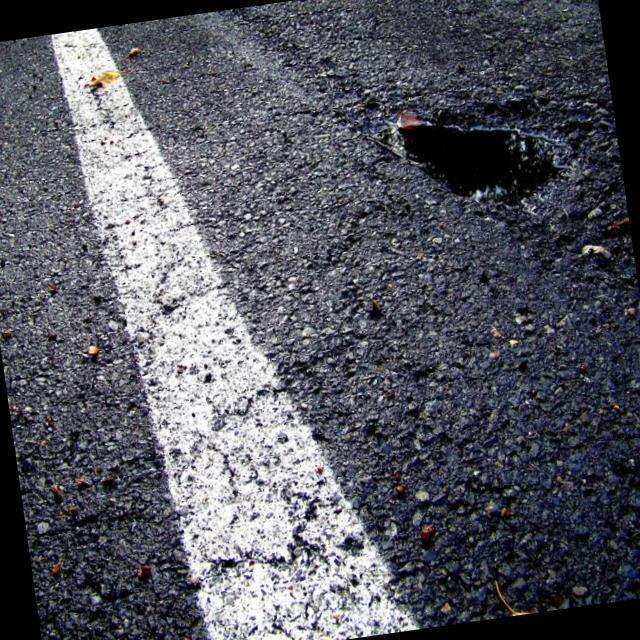Pothole: (346, 32, 615, 284)
